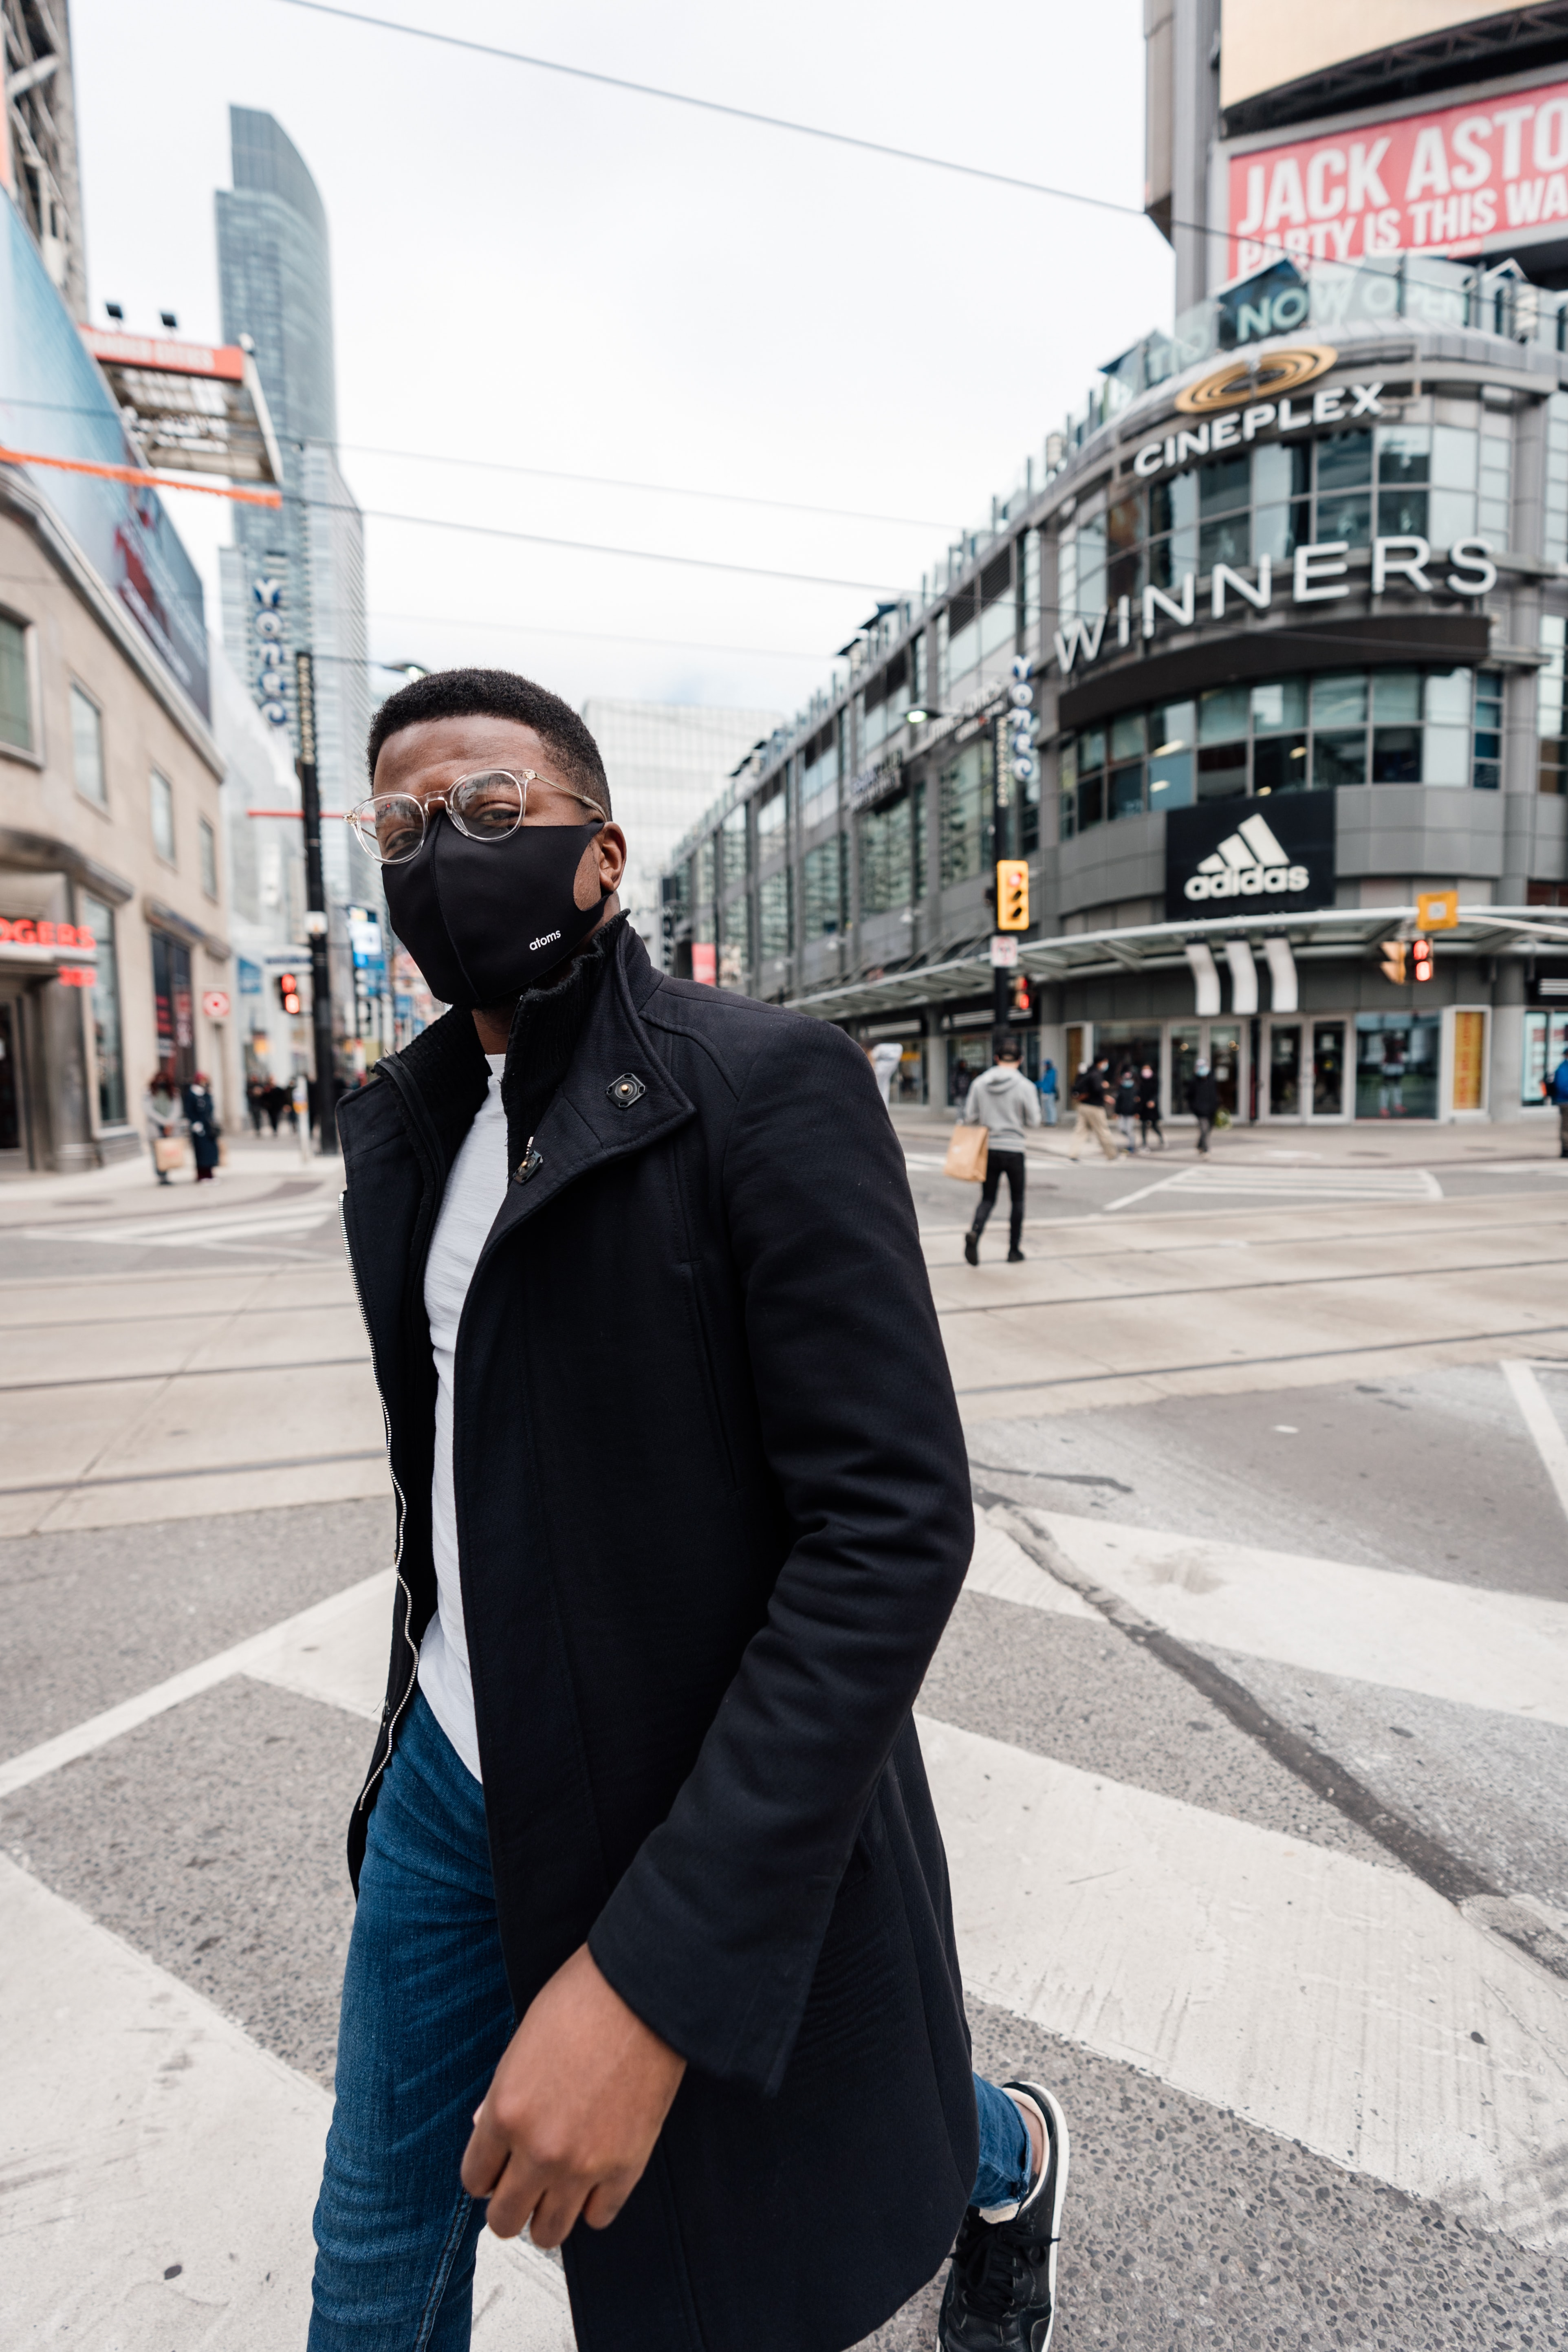mask: (379, 832, 621, 995)
person: (216, 656, 1167, 2352)
